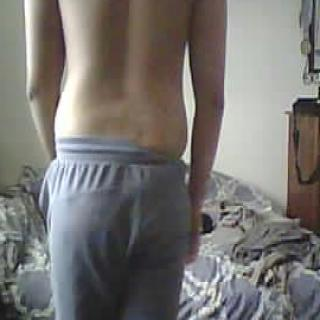Blue Sweatpants: (41, 136, 196, 320)
